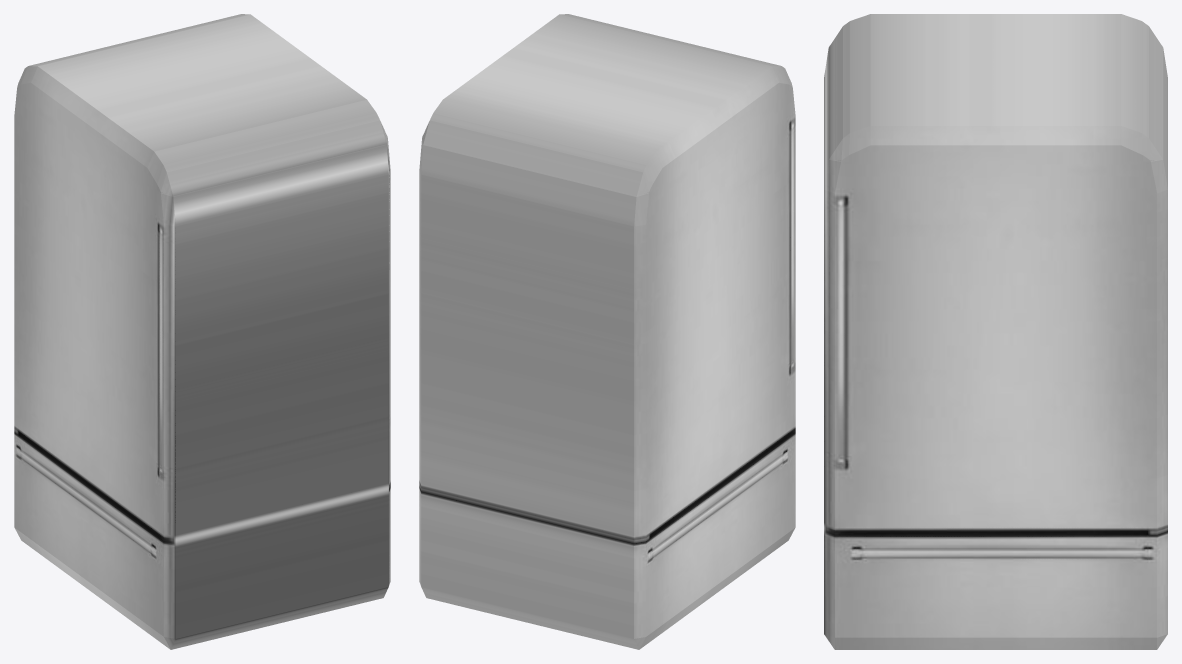
Rendered from fridge.glb.
The picture shows the model from 3 angles, left to right: view 1: azimuth 30°, elevation 25°; view 2: azimuth 150°, elevation 25°; view 3: azimuth 270°, elevation 25°; orthographic projection. The views are drawn at different scales.
Visible parts, largest first — view 1: Fridge; view 2: Fridge; view 3: Fridge.
Part boxes in pixels (x1,y1,x2,y2): Fridge: (14,14,390,649); Fridge: (419,14,795,649); Fridge: (824,14,1167,649).
Bounding box in the file's own units: 0.9773 × 2 × 1.19.
1 material, 1 textured.
